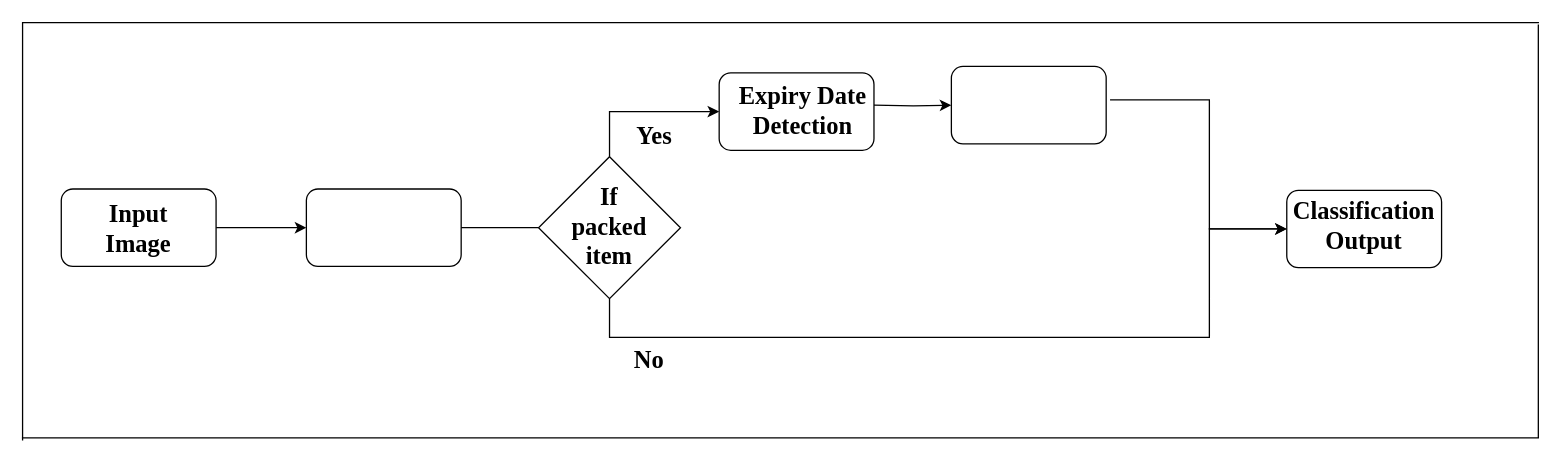
Image size: 1561x463. Some labels were removed from this diagram. Each missing label, with the box of its shape:
Expired Date Output: (950, 65, 1106, 144)
Object Classification: (305, 188, 461, 266)
